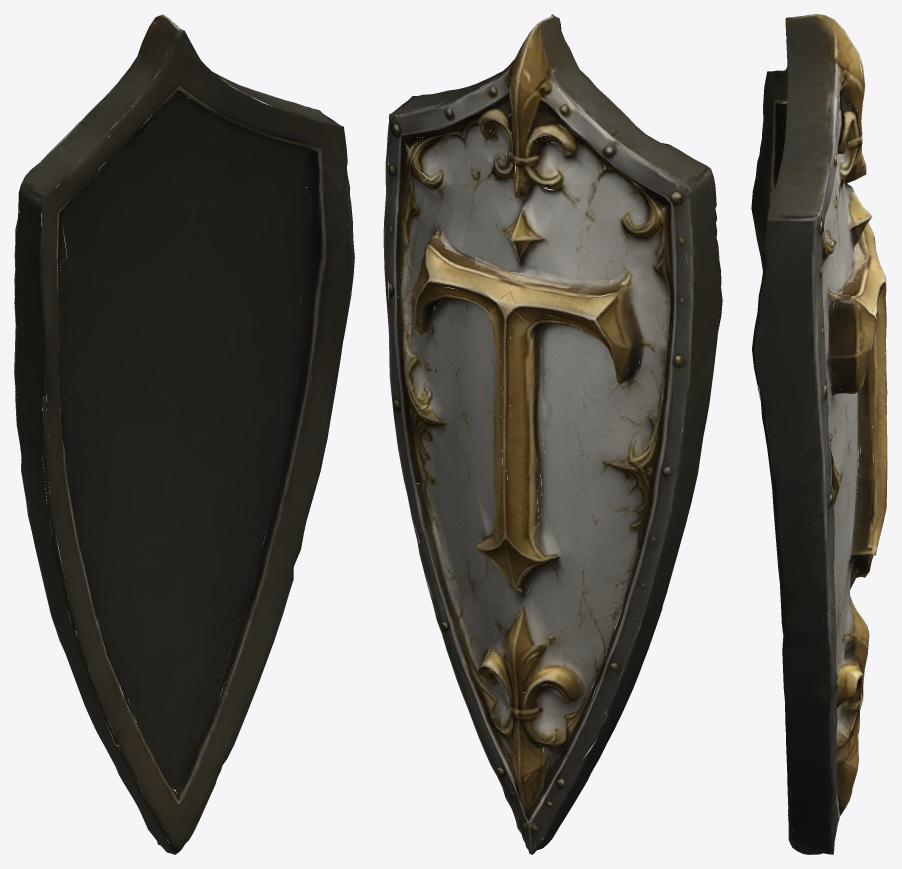
The model's file is kite_t_white.glb.
3 renders of one model, left to right at view 1: azimuth 30°, elevation 25°; view 2: azimuth 150°, elevation 25°; view 3: azimuth 270°, elevation 25°, orthographic.
Parts seen in each view (by area): view 1: kite_t_white; view 2: kite_t_white; view 3: kite_t_white.
Boxes of the visible parts, x1=… form: kite_t_white: x1=14, y1=14, x2=354, y2=854; kite_t_white: x1=383, y1=14, x2=722, y2=854; kite_t_white: x1=751, y1=14, x2=887, y2=854.
Size of the model in its own units: 0.3594 by 0.9186 by 0.1348.
Materials: 1 (1 with a texture image).
